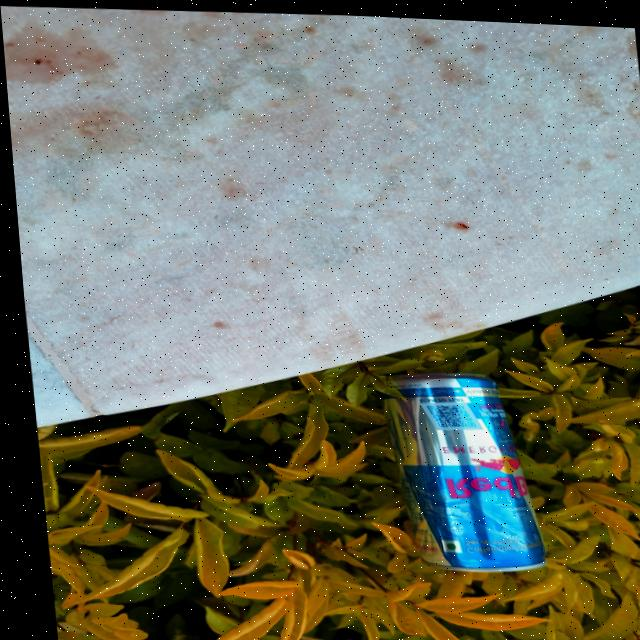Redbull DanceYourStyle: (374, 362, 543, 577)
